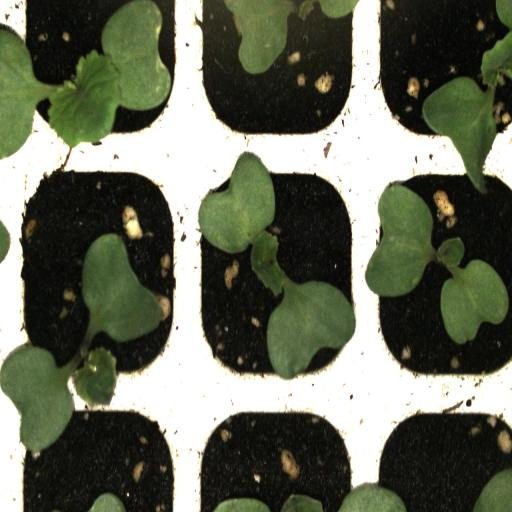Folha: (0, 344, 117, 453), (224, 0, 358, 76), (82, 233, 161, 343)
Germinacao: (8, 144, 188, 390), (186, 148, 366, 390), (366, 143, 512, 389), (5, 0, 189, 146)
